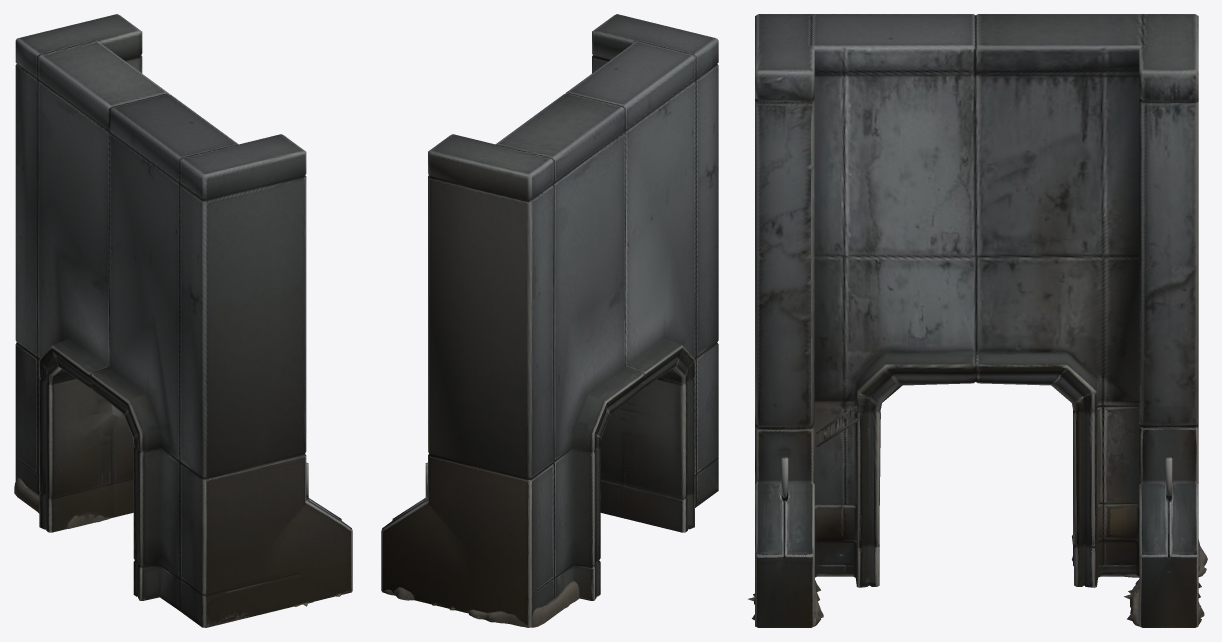
The model's file is Concrete_large_Arch_1.glb.
The picture shows the model from 3 angles, left to right: view 1: azimuth 30°, elevation 25°; view 2: azimuth 150°, elevation 25°; view 3: azimuth 270°, elevation 25°; orthographic projection. The views are drawn at different scales.
Parts seen in each view (by area): view 1: tripo_node_3669d0c7-872e-4c7e-9b65-333d18de3558; view 2: tripo_node_3669d0c7-872e-4c7e-9b65-333d18de3558; view 3: tripo_node_3669d0c7-872e-4c7e-9b65-333d18de3558.
Part boxes in pixels (x1,y1,x2,y2): tripo_node_3669d0c7-872e-4c7e-9b65-333d18de3558: (14, 14, 352, 627); tripo_node_3669d0c7-872e-4c7e-9b65-333d18de3558: (381, 14, 718, 627); tripo_node_3669d0c7-872e-4c7e-9b65-333d18de3558: (748, 14, 1207, 627).
Size of the model in its own units: 0.3926 by 0.998 by 0.7871.
Materials: 1 (1 with a texture image).
